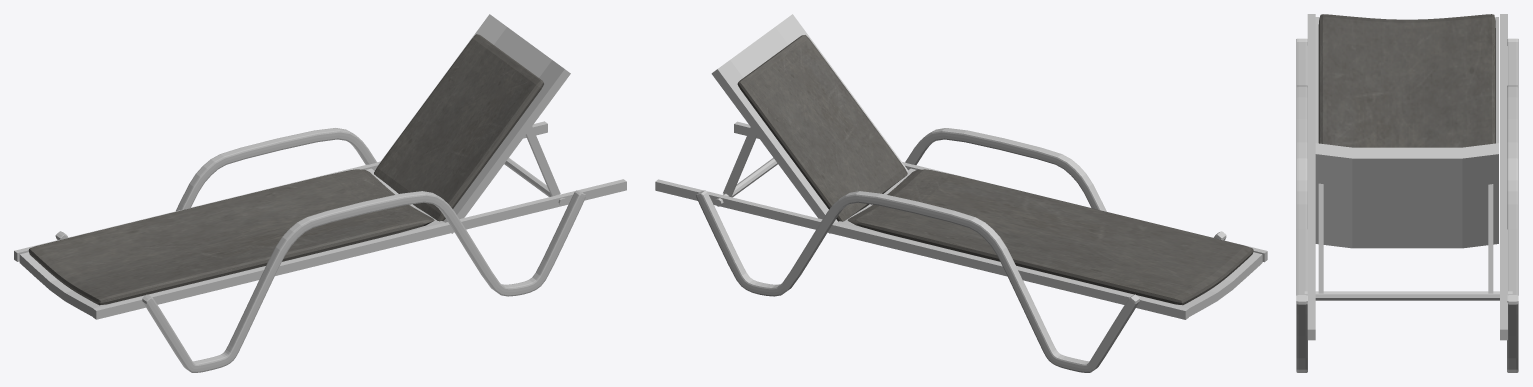
File: PoolChairWithCushionSelectedInOrder3.fbx
The picture shows the model from 3 angles, left to right: view 1: azimuth 30°, elevation 25°; view 2: azimuth 150°, elevation 25°; view 3: azimuth 270°, elevation 25°; orthographic projection. The views are drawn at different scales.
Parts seen in each view (by area): view 1: Cylinder.007; view 2: Cylinder.007; view 3: Cylinder.007.
Part boxes in pixels (bbox=[...]): Cylinder.007: bbox=[14, 14, 626, 372]; Cylinder.007: bbox=[655, 14, 1267, 372]; Cylinder.007: bbox=[1296, 14, 1518, 372].
Bounding box in the file's own units: 213 × 79.76 × 63.44.
